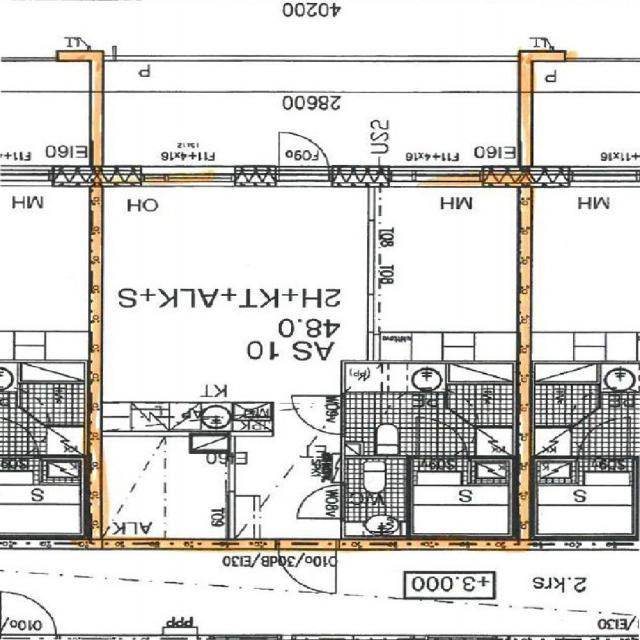door: (278, 539, 336, 594), (279, 128, 329, 186), (290, 394, 345, 434), (418, 418, 468, 461), (297, 485, 345, 519)
